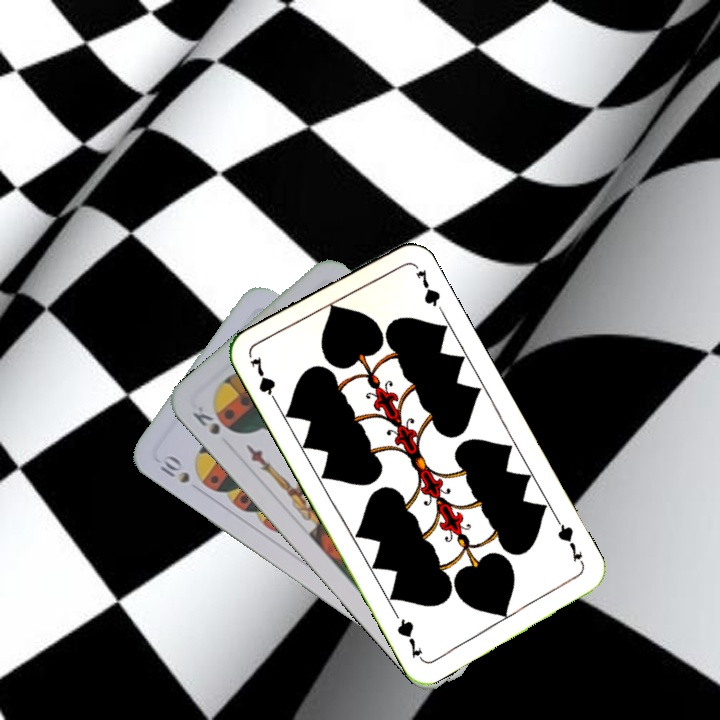G7: (246, 352, 282, 409), (552, 515, 588, 570)
S10: (153, 451, 193, 486)
SK: (188, 408, 223, 438)
